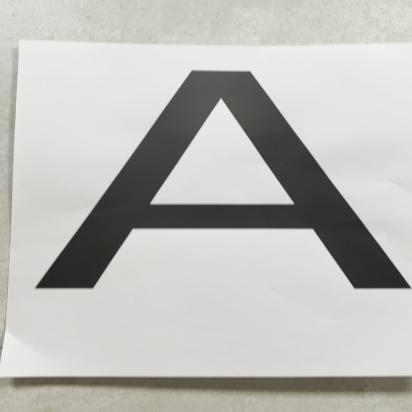seat: (26, 71, 412, 382)
